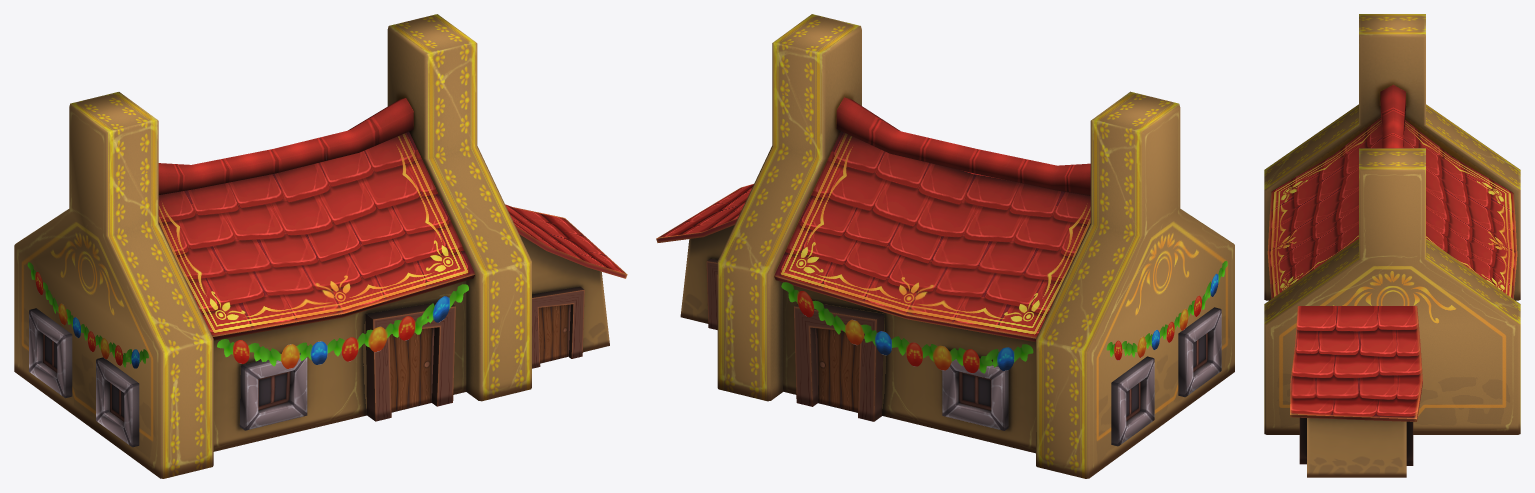
Rendered from House_05_F.FBX.
3 renders of one model, left to right at view 1: azimuth 30°, elevation 25°; view 2: azimuth 150°, elevation 25°; view 3: azimuth 270°, elevation 25°, orthographic. The views are drawn at different scales.
Parts seen in each view (by area): view 1: House_05, Egg_Rope_House_05; view 2: House_05, Egg_Rope_House_05; view 3: House_05.
Boxes of the visible parts, left/top/right/bottom form: House_05: left=14, top=14, right=627, bottom=478; Egg_Rope_House_05: left=27, top=262, right=468, bottom=368; House_05: left=656, top=14, right=1234, bottom=478; Egg_Rope_House_05: left=781, top=261, right=1227, bottom=373; House_05: left=1264, top=14, right=1520, bottom=477.
Size of the model in its own units: 271 by 160 by 139.
